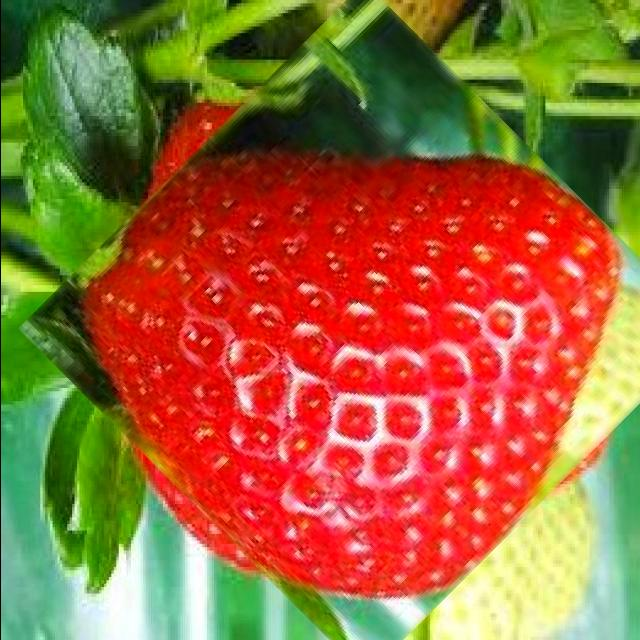strawberry: (69, 32, 640, 626)
